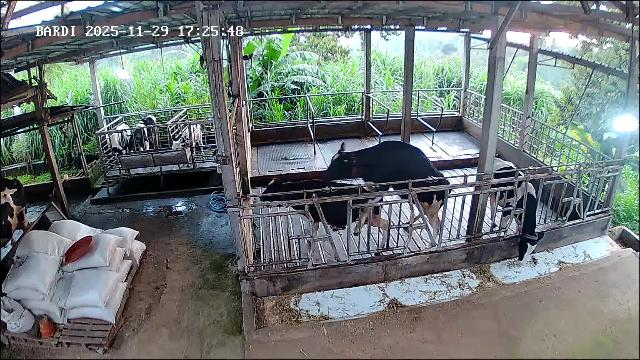mounting: (324, 139, 443, 249)
